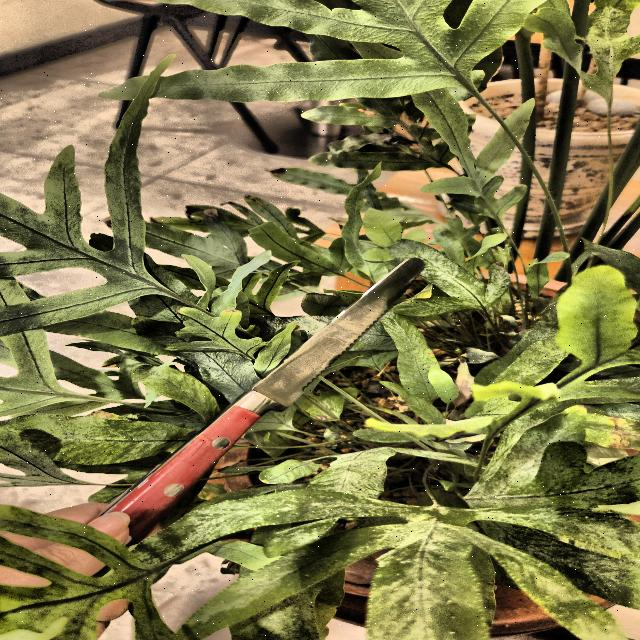knife: (112, 254, 439, 546)
